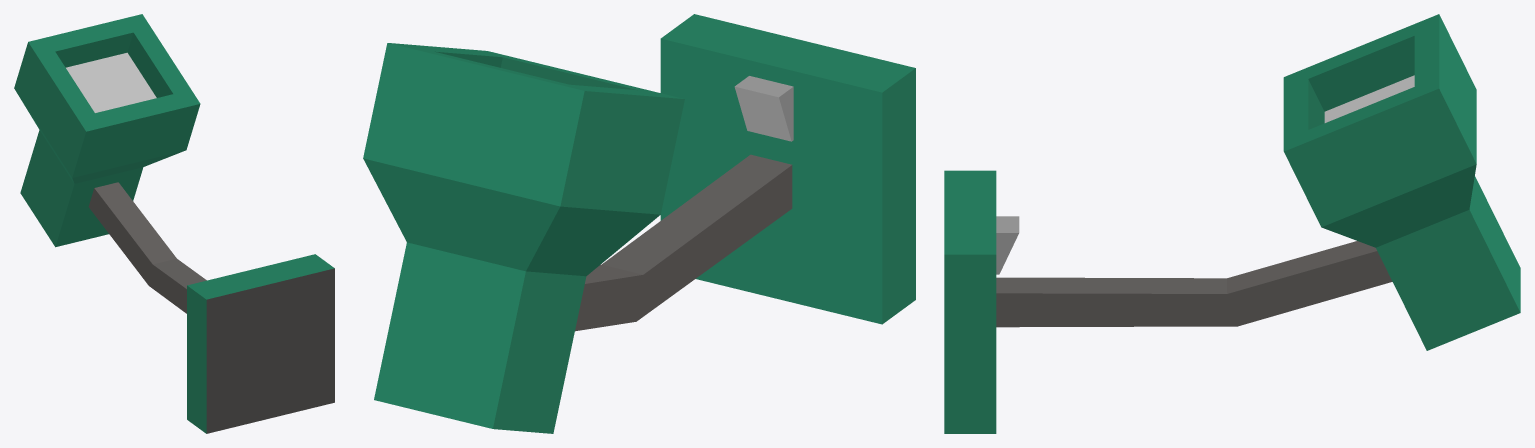
File: Lamp2.glb
3 views of the same model, side by side, from view 1: azimuth 30°, elevation 25°; view 2: azimuth 150°, elevation 25°; view 3: azimuth 270°, elevation 25° (orthographic). The views are drawn at different scales.
Visible parts, largest first — view 1: SO_Lamp_02; view 2: SO_Lamp_02; view 3: SO_Lamp_02.
Boxes of the visible parts, x1,y1,x2,y2 form: SO_Lamp_02: (14, 14, 334, 433); SO_Lamp_02: (363, 14, 915, 433); SO_Lamp_02: (944, 14, 1520, 433).
Bounding box in the file's own units: 0.2725 × 0.5171 × 0.7928.
Materials: 1 (1 with a texture image).
